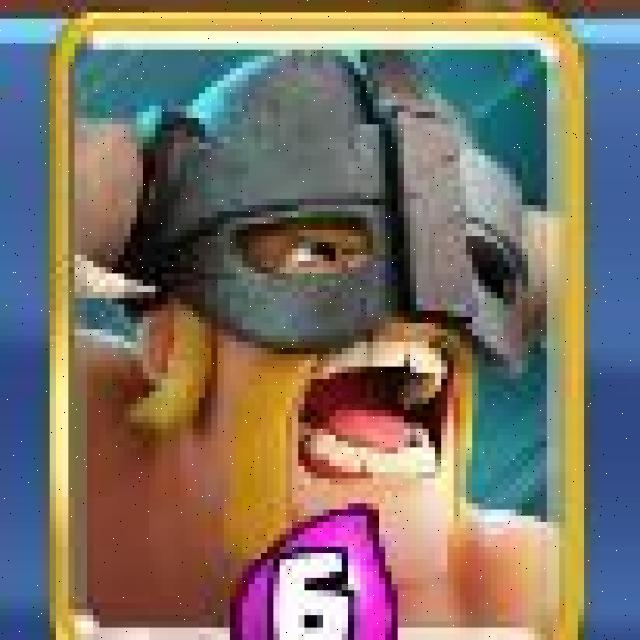Elite_Barbarians: (42, 1, 586, 640)
